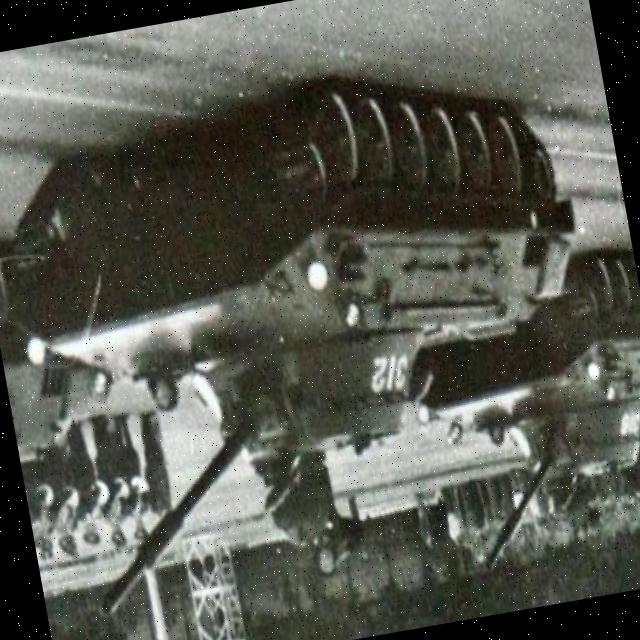north tank: (0, 29, 625, 633), (376, 227, 640, 598)
